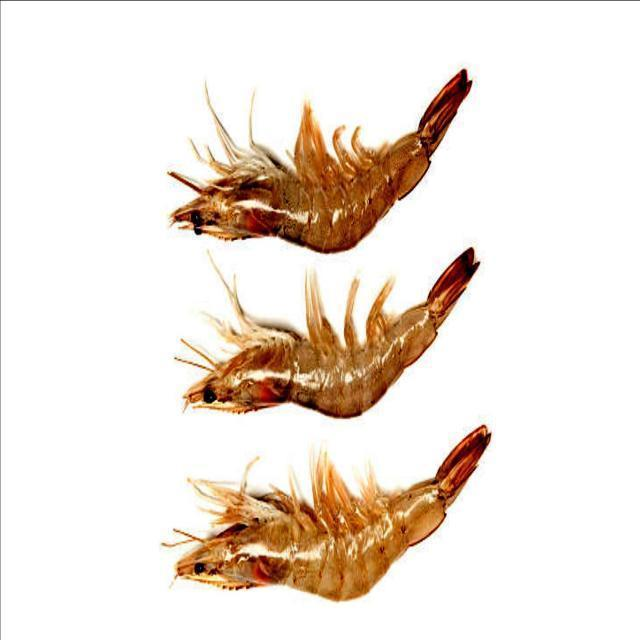shrimp: (172, 70, 471, 253), (176, 427, 490, 601), (185, 249, 479, 416)
